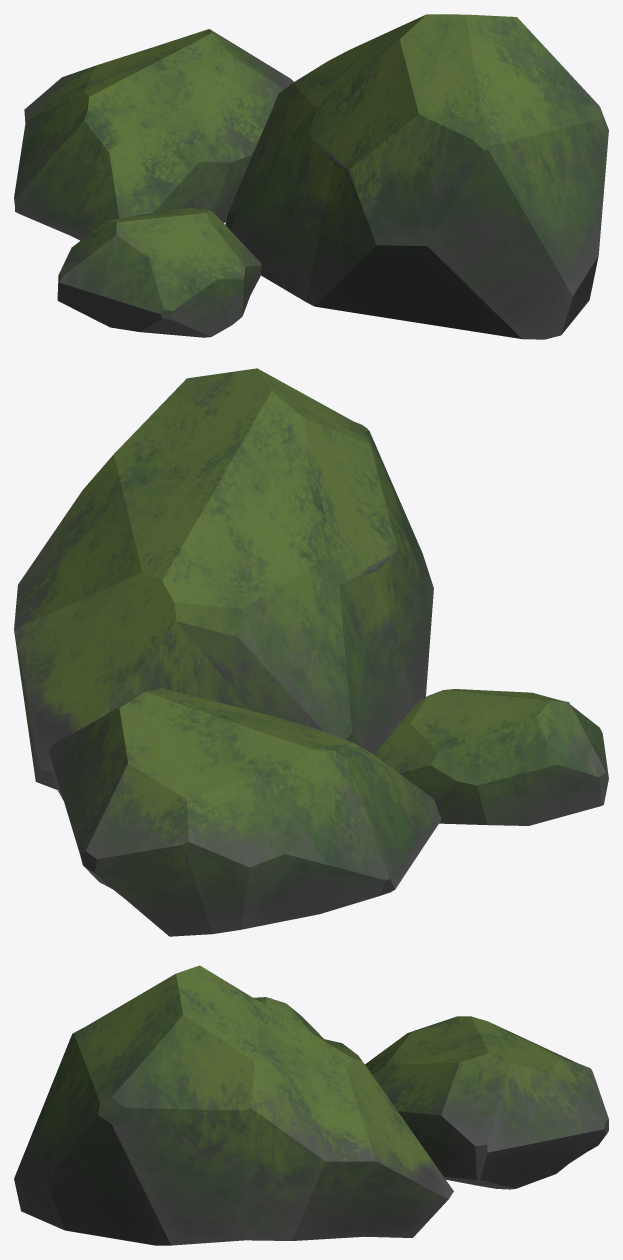
Rendered from StonesMossy.fbx.
3 views of the same model, one above another, from view 1: azimuth 30°, elevation 25°; view 2: azimuth 150°, elevation 25°; view 3: azimuth 270°, elevation 25° (orthographic). The views are drawn at different scales.
Visible parts, largest first — view 1: Icosphere.028; view 2: Icosphere.028; view 3: Icosphere.028.
Boxes of the visible parts, x1,y1,x2,y2 form: Icosphere.028: (14,14,608,339); Icosphere.028: (14,368,608,936); Icosphere.028: (14,965,608,1245).
Bounding box in the file's own units: 75.61 × 41.49 × 89.39.
